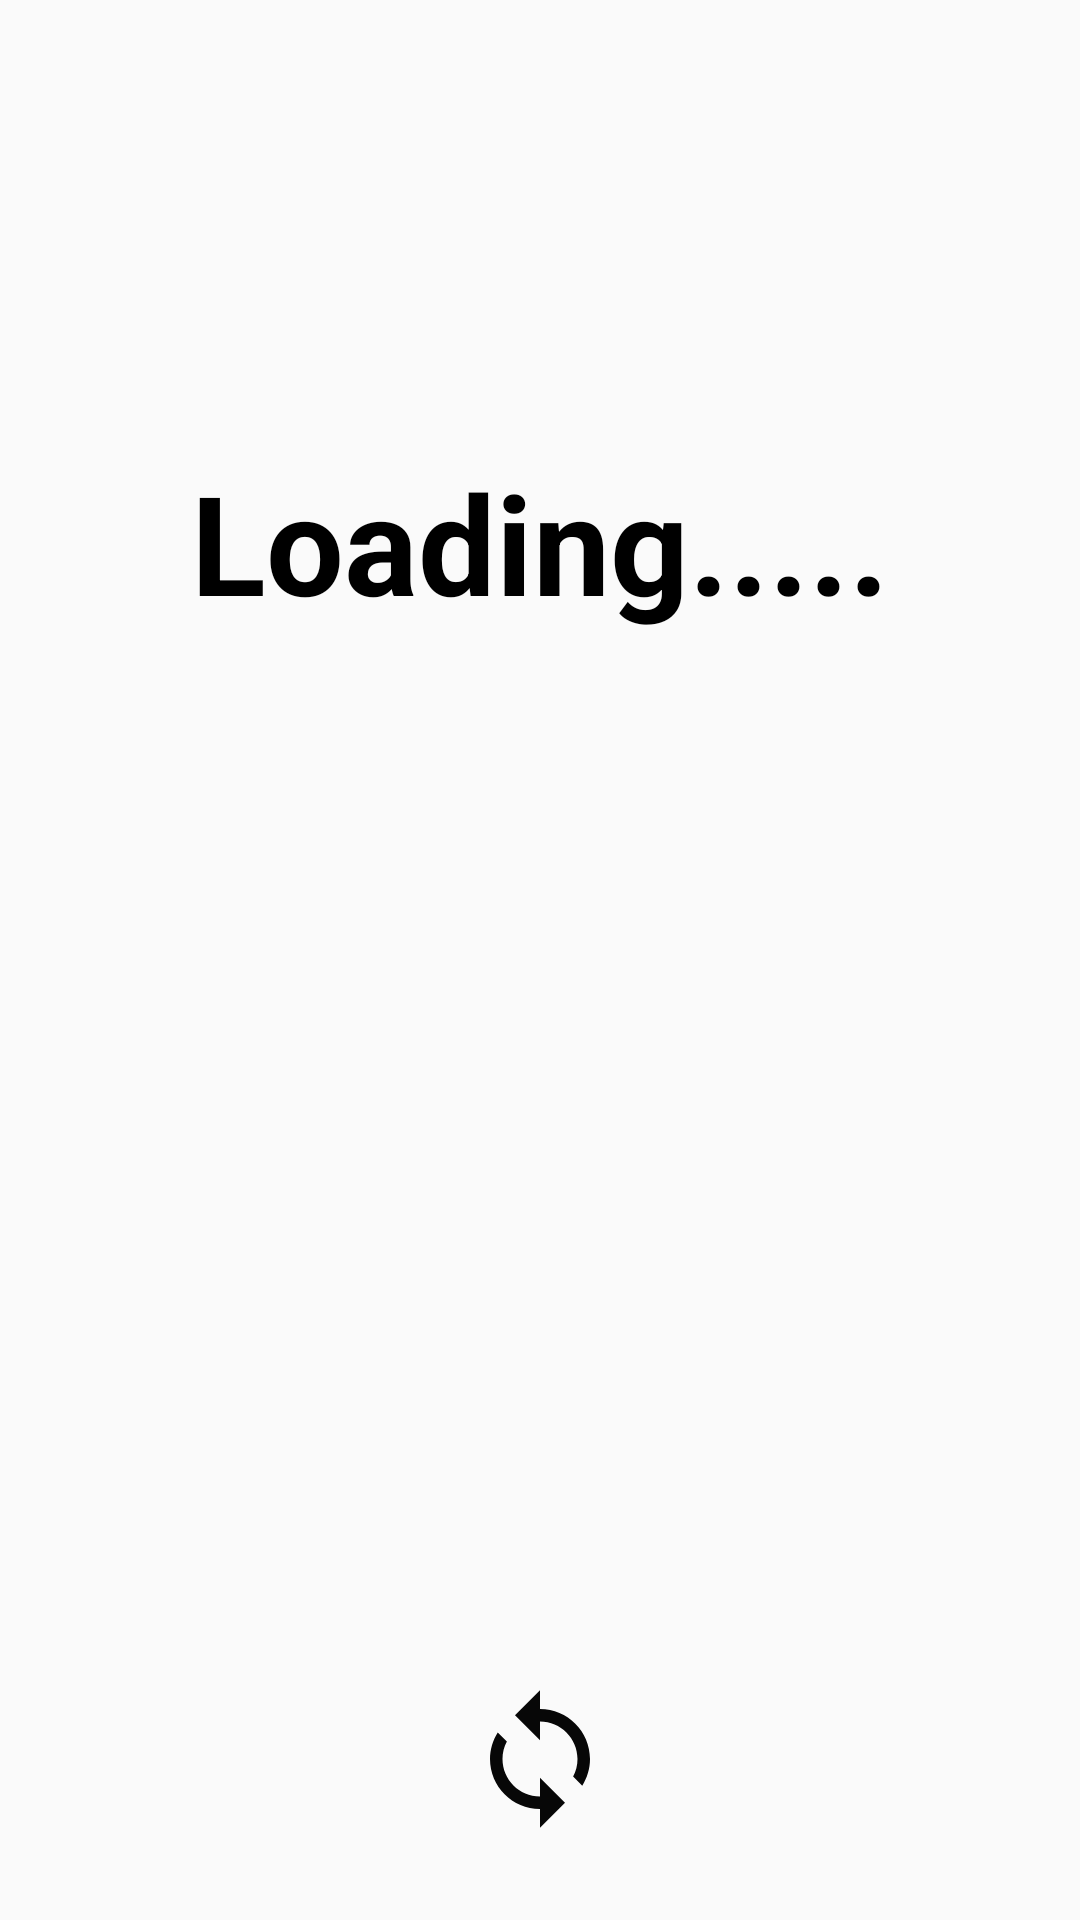

Icon bounding boxes for this 1080x1920 phone screenshot, format detection(x1, y1, x2, y2):
sync: detection(490, 1690, 590, 1828)
